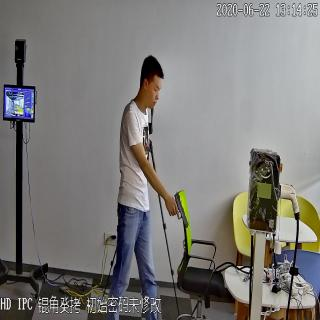gun: (166, 190, 190, 230)
